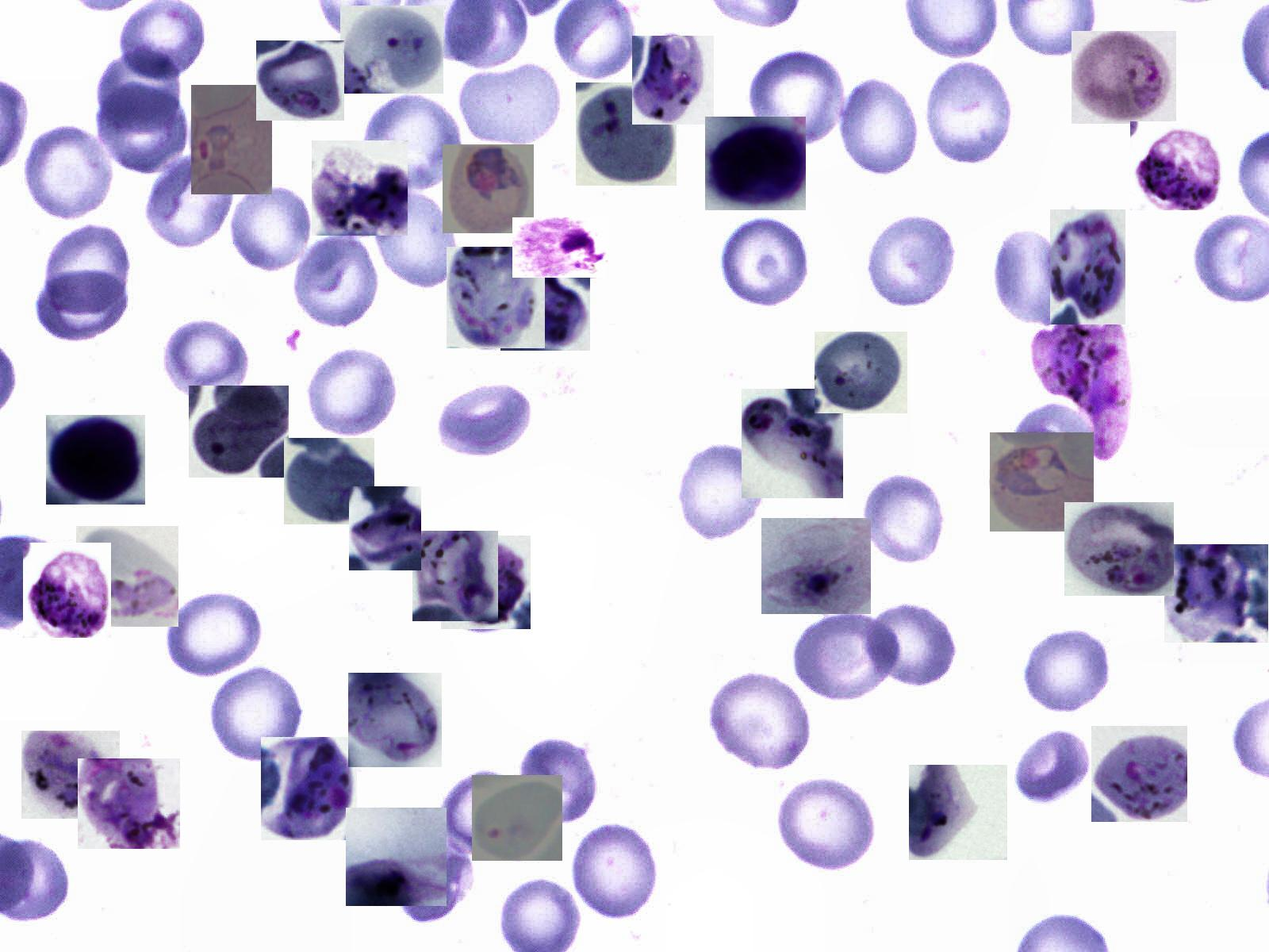Infected: (1031, 314, 1131, 458), (742, 389, 843, 498), (761, 518, 871, 614), (576, 83, 677, 186), (990, 432, 1094, 532), (1064, 502, 1174, 596), (76, 526, 178, 627), (1164, 544, 1268, 643), (447, 247, 545, 348), (346, 808, 447, 906), (261, 737, 357, 840), (1072, 31, 1176, 124), (705, 117, 806, 210), (909, 765, 1007, 860), (78, 758, 180, 849), (312, 140, 408, 236), (1091, 726, 1187, 822), (189, 386, 289, 478), (340, 6, 443, 94), (46, 415, 145, 505), (348, 673, 442, 767), (191, 85, 272, 194), (21, 731, 120, 819), (1050, 209, 1125, 324), (441, 536, 531, 629), (1130, 121, 1223, 210), (24, 543, 111, 638), (443, 144, 534, 233), (472, 775, 562, 861), (284, 438, 374, 524), (412, 531, 498, 621), (500, 267, 590, 351), (815, 332, 907, 413), (633, 36, 715, 125), (256, 40, 344, 121), (349, 486, 421, 570), (512, 218, 608, 278)
Uninfected: (920, 56, 1016, 172), (744, 47, 849, 147), (773, 774, 879, 873), (363, 92, 462, 196), (707, 674, 815, 769), (204, 666, 310, 762), (788, 615, 900, 705), (372, 185, 463, 295), (161, 589, 264, 680), (568, 823, 662, 922), (457, 60, 564, 146), (292, 230, 384, 329), (305, 345, 401, 437), (837, 75, 924, 176), (146, 155, 237, 251), (862, 599, 959, 689), (864, 218, 969, 301), (720, 218, 812, 310), (22, 125, 113, 218), (96, 83, 189, 174), (33, 261, 128, 349), (1012, 398, 1102, 490), (1022, 625, 1115, 712), (994, 223, 1069, 330), (435, 378, 534, 459), (42, 224, 131, 314), (863, 474, 950, 566), (514, 735, 601, 827), (681, 445, 765, 540), (97, 46, 183, 137), (228, 183, 313, 273), (445, 769, 527, 861), (393, 833, 473, 923), (164, 317, 249, 401), (1009, 728, 1094, 812), (117, 1, 206, 79)
